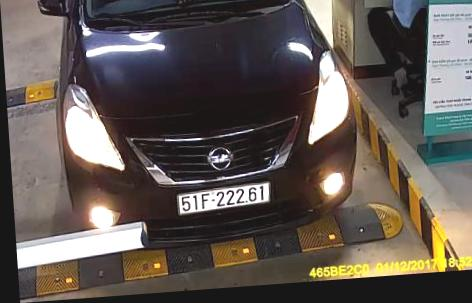License_Plate: (173, 180, 275, 212)
